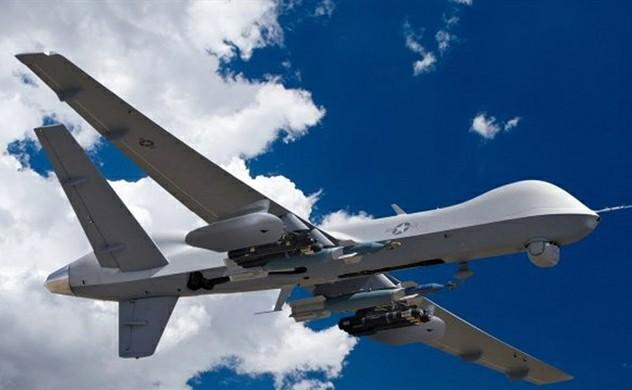maybay_khongnguoilai: (12, 54, 570, 382)
